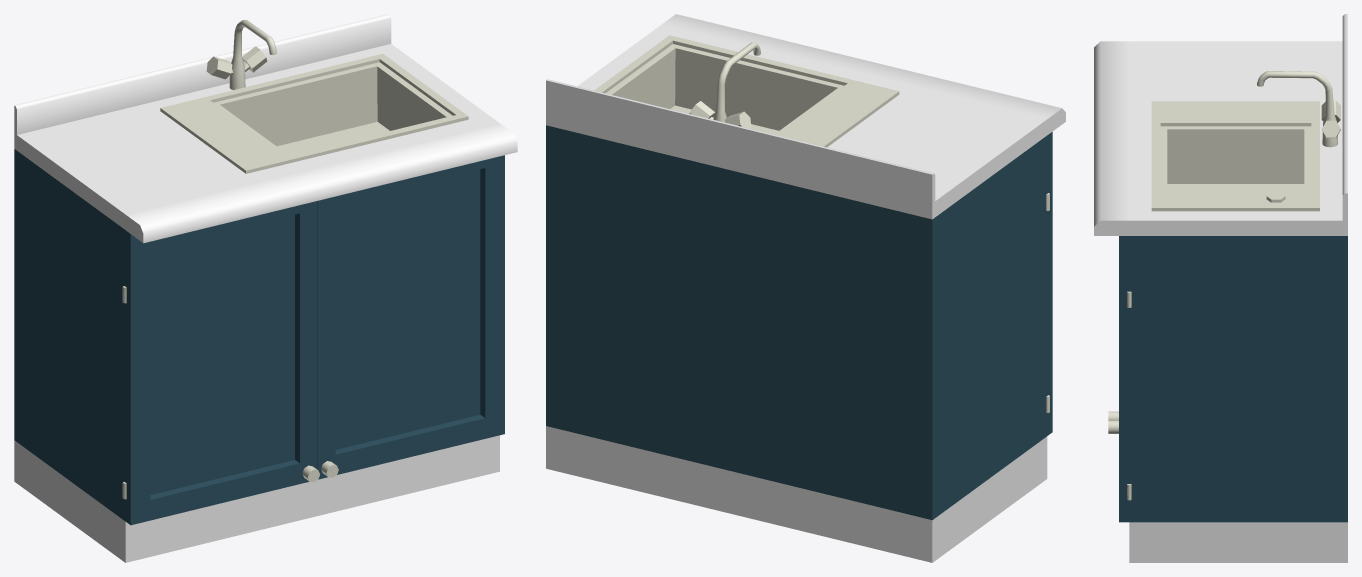
File: Kitchen_Sink.fbx
3 views of the same model, side by side, from view 1: azimuth 30°, elevation 25°; view 2: azimuth 150°, elevation 25°; view 3: azimuth 270°, elevation 25° (orthographic). The views are drawn at different scales.
Visible parts, largest first — view 1: Kitchen_Sink, Kitchen_Sink_Door; view 2: Kitchen_Sink, Kitchen_Sink_Door; view 3: Kitchen_Sink.
Boxes of the visible parts, <box> form: Kitchen_Sink: <box>14,14,517,562</box>; Kitchen_Sink_Door: <box>122,201,319,525</box>; Kitchen_Sink: <box>546,14,1065,562</box>; Kitchen_Sink_Door: <box>1046,132,1052,435</box>; Kitchen_Sink: <box>1094,14,1347,562</box>.
Bounding box in the file's own units: 101 × 108 × 59.82.
